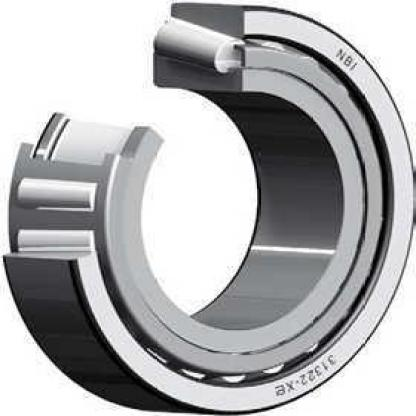FOD: (1, 3, 414, 414)
